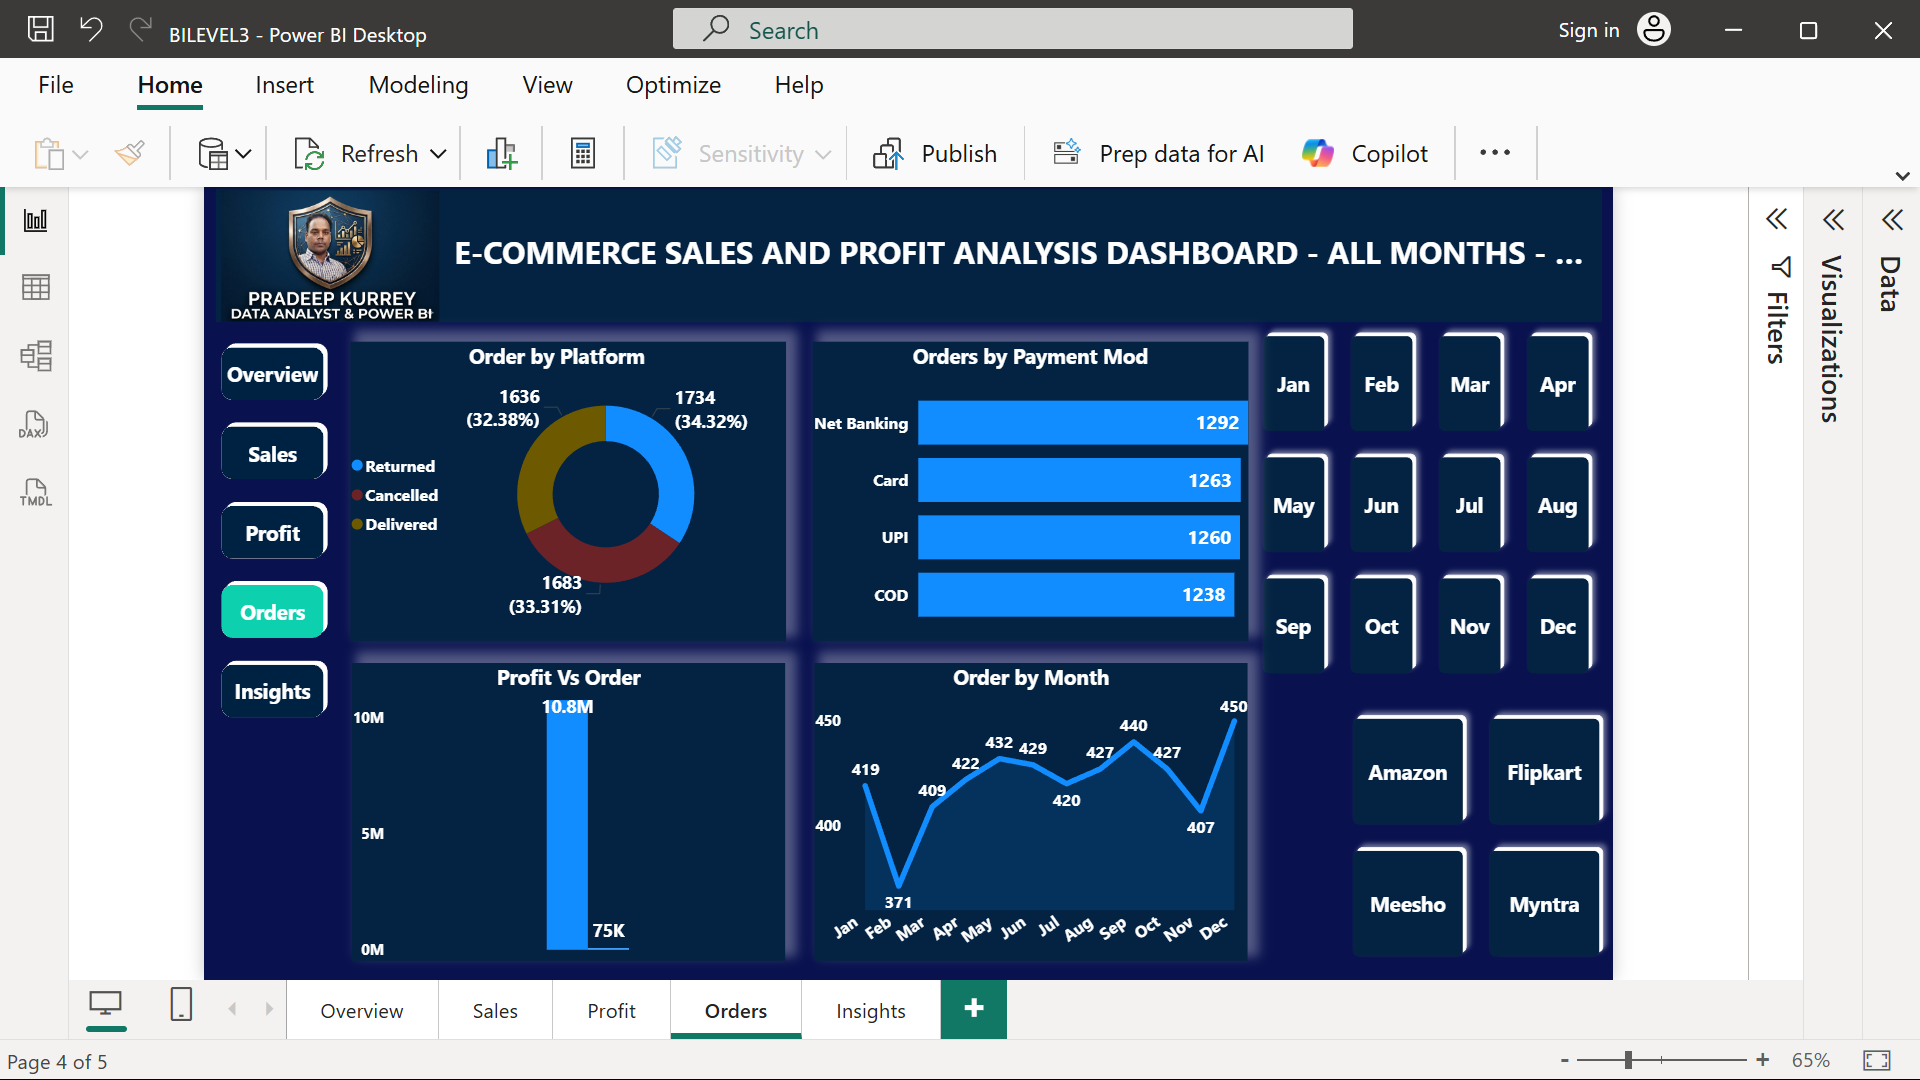

The page's visual inventory and layout, read from the dashboard file:
{"tool":"powerbi","page":{"name":"Orders","canvas":[1280,720],"ordinal":3},"visuals":[{"type":"group","id":"g1","title":"Group 1","box":[10.7,1.7,1258.6,121.4],"z":0},{"type":"textbox","box":[10.7,1.7,1258.6,121.4],"z":0,"group":"g1"},{"type":"image","box":[10.7,3.5,207.9,119.6],"z":1000,"group":"g1"},{"type":"advancedSlicerVisual","fields":{"Values":["DATE TABLE.MONTH"]},"box":[950,123.1,321.1,330.8],"z":1000},{"type":"pageNavigator","box":[11,139.8,103,349.6],"z":2000},{"type":"advancedSlicerVisual","fields":{"Values":["Table1.Platform"]},"box":[1031.9,471.2,248.1,240.4],"z":3000},{"type":"textbox","box":[223.1,40.4,1046.2,82.7],"z":4000},{"type":"donutChart","title":"Order by Platform  ","fields":{"Y":["DATE TABLE.ORDER 2024"],"Category":["Table1.Order Status"]},"box":[132.5,139.8,395.6,272.3],"z":5000},{"type":"clusteredBarChart","title":"Orders by Payment Mod ","fields":{"Category":["Table1.Payment Mode"],"Y":["DATE TABLE.ORDER 2024"]},"box":[552,139.8,395.6,272.3],"z":6000},{"type":"clusteredColumnChart","title":"Profit Vs Order","fields":{"Y":["DATE TABLE.PROFIT 2024","DATE TABLE.DISCOUNT 2024"]},"box":[134.3,432.4,393.8,270.5],"z":7000},{"type":"areaChart","title":"Order by Month  ","fields":{"Y":["DATE TABLE.ORDER 2024"],"Category":["DATE TABLE.MONTH"]},"box":[553.8,432.4,393.8,270.5],"z":8000}]}

Visuals, with their boxes on the page's 1280x720 design canvas (x1, y1, x2, y2). These are canvas units, not pixel positions in the 1920x1080 screenshot, which may show the page scaled, cropped or inside an application window:
"Group 1" group: (left=11, top=2, right=1269, bottom=123)
textbox: (left=11, top=2, right=1269, bottom=123)
image: (left=11, top=4, right=219, bottom=123)
advancedSlicerVisual - DATE TABLE.MONTH: (left=950, top=123, right=1271, bottom=454)
pageNavigator: (left=11, top=140, right=114, bottom=489)
advancedSlicerVisual - Table1.Platform: (left=1032, top=471, right=1280, bottom=712)
textbox: (left=223, top=40, right=1269, bottom=123)
"Order by Platform  " donutChart: (left=132, top=140, right=528, bottom=412)
"Orders by Payment Mod " clusteredBarChart: (left=552, top=140, right=948, bottom=412)
"Profit Vs Order" clusteredColumnChart: (left=134, top=432, right=528, bottom=703)
"Order by Month  " areaChart: (left=554, top=432, right=948, bottom=703)
